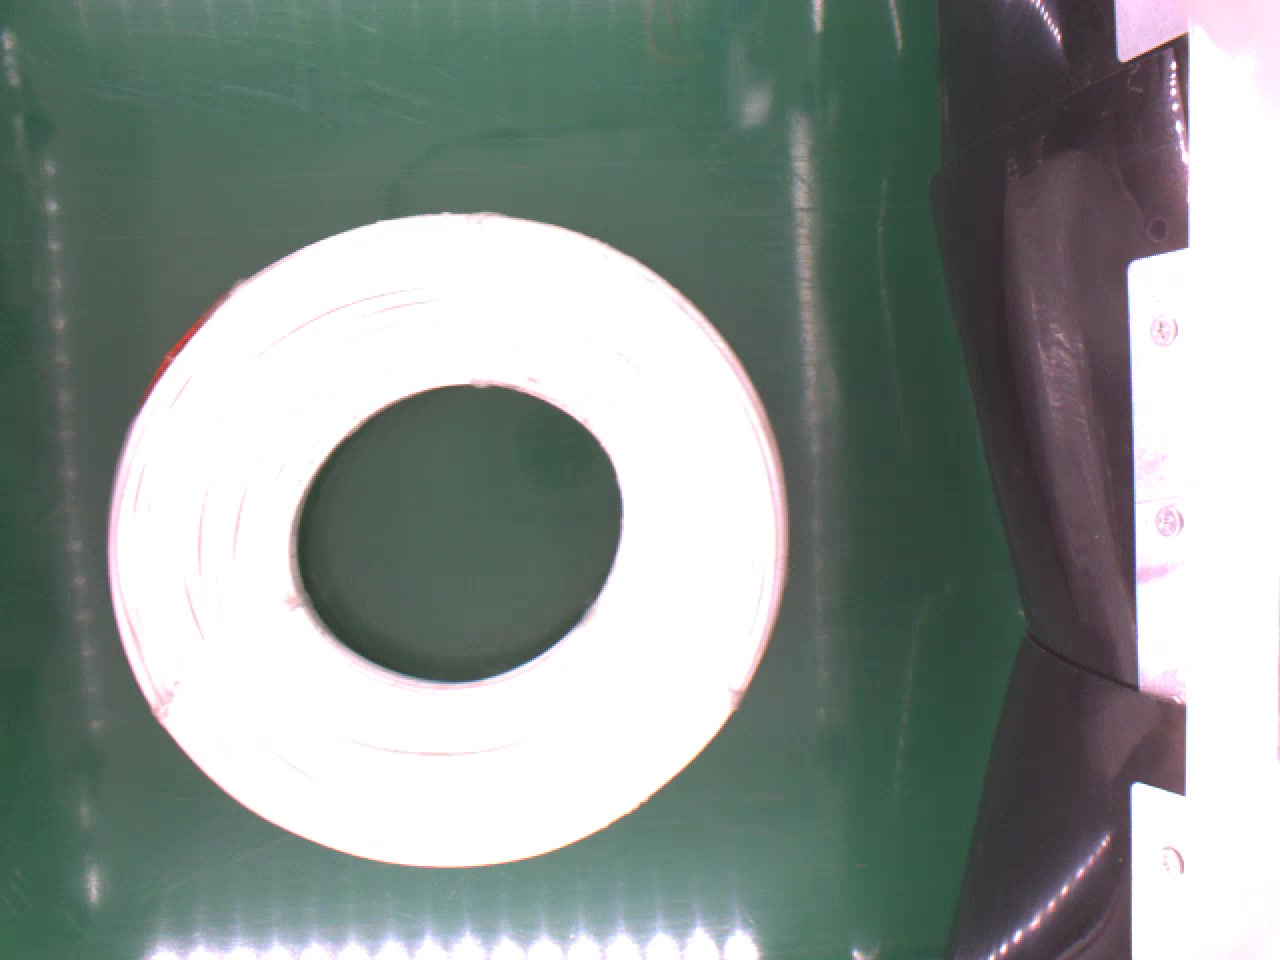white: (105, 206, 807, 869)
